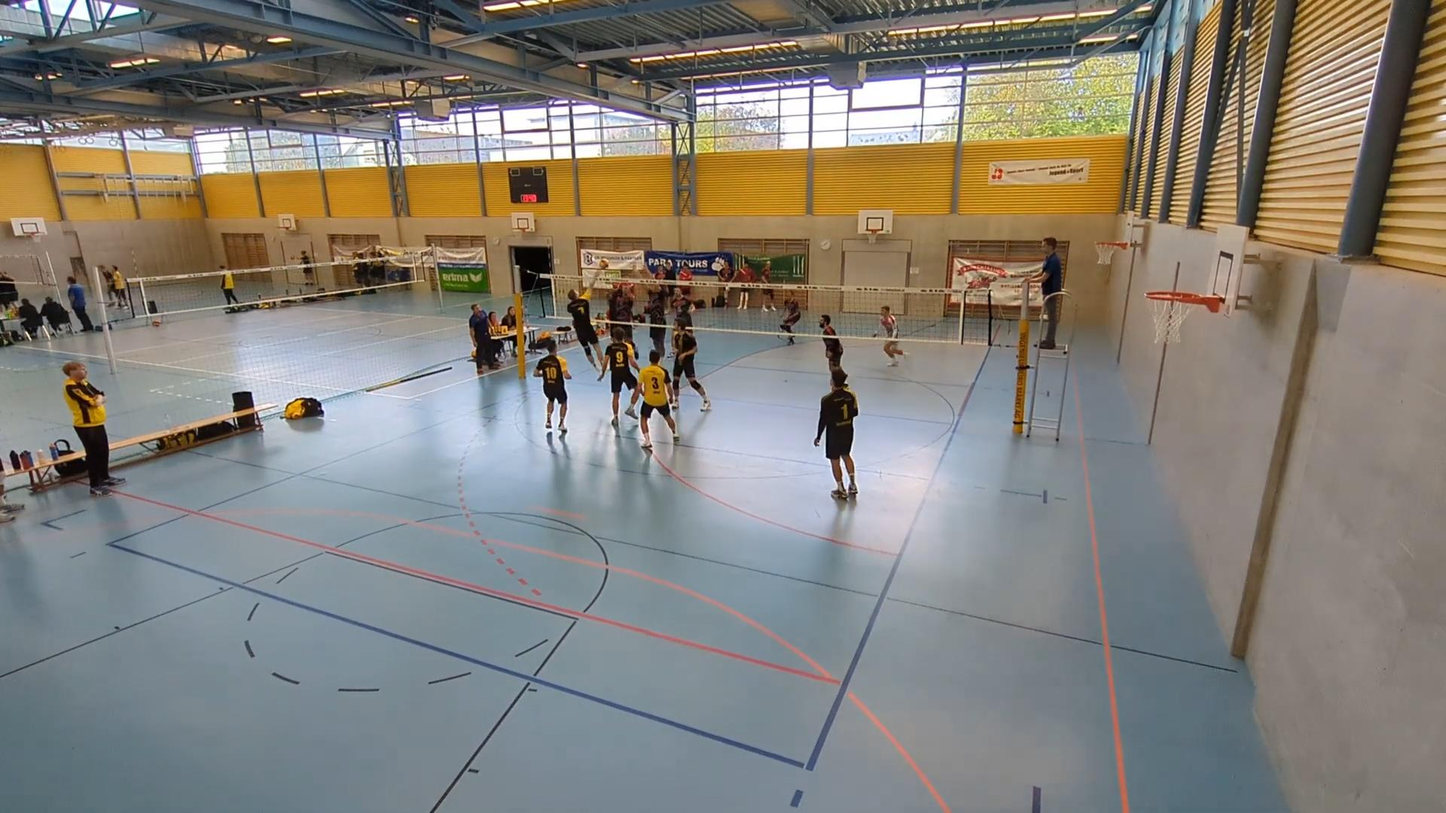Attack: (567, 264, 606, 372)
Block: (596, 265, 640, 372), (638, 258, 676, 370)
Player: (814, 369, 857, 498), (639, 350, 679, 449), (598, 327, 638, 425), (533, 340, 571, 433), (673, 321, 710, 411), (880, 306, 905, 365), (819, 314, 843, 370), (779, 296, 801, 345)
